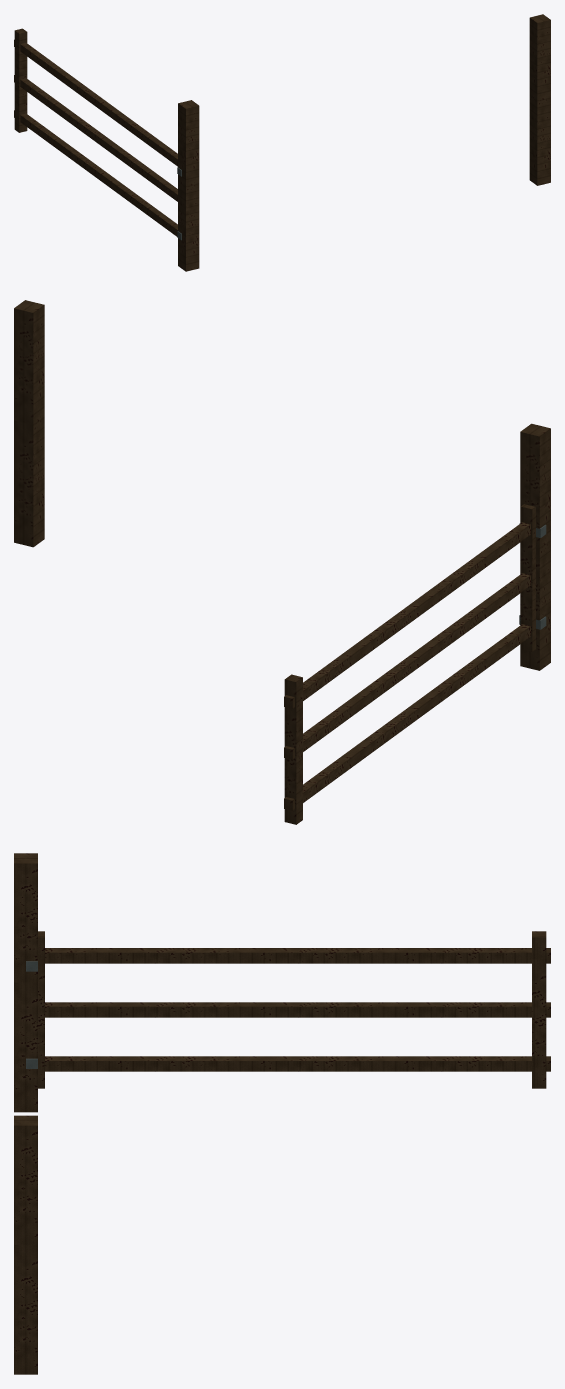
Rendered from RURAL_porteira_rural.gltf.
The picture shows the model from 3 angles, top to bottom: view 1: azimuth 30°, elevation 25°; view 2: azimuth 150°, elevation 25°; view 3: azimuth 270°, elevation 25°; orthographic projection. The views are drawn at different scales.
Visible parts, largest first — view 1: porteira_rural_MOURAO, porteira_rural_FOLHA_ABERTA, porteira_rural_TRAVESSA; view 2: porteira_rural_FOLHA_ABERTA, porteira_rural_MOURAO, porteira_rural_TRAVESSA; view 3: porteira_rural_FOLHA_ABERTA, porteira_rural_MOURAO, porteira_rural_TRAVESSA.
Part boxes in pixels (box(x1,y1,x2,y2)): porteira_rural_MOURAO: box(178, 14, 550, 271); porteira_rural_FOLHA_ABERTA: box(14, 39, 177, 236); porteira_rural_TRAVESSA: box(14, 28, 27, 132); porteira_rural_FOLHA_ABERTA: box(284, 522, 530, 810); porteira_rural_MOURAO: box(14, 300, 550, 670); porteira_rural_TRAVESSA: box(284, 504, 535, 824); porteira_rural_FOLHA_ABERTA: box(45, 948, 550, 1071); porteira_rural_MOURAO: box(14, 853, 37, 1374); porteira_rural_TRAVESSA: box(38, 931, 546, 1088).
Bounding box in the file's own units: 5.41 × 2.3 × 4.5.
Materials: 2 (2 with a texture image).
